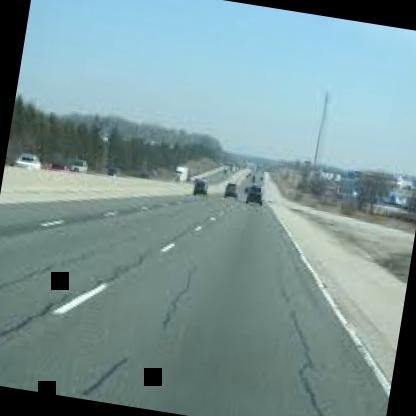car: (180, 168, 214, 204), (243, 178, 266, 213), (219, 172, 244, 204)
